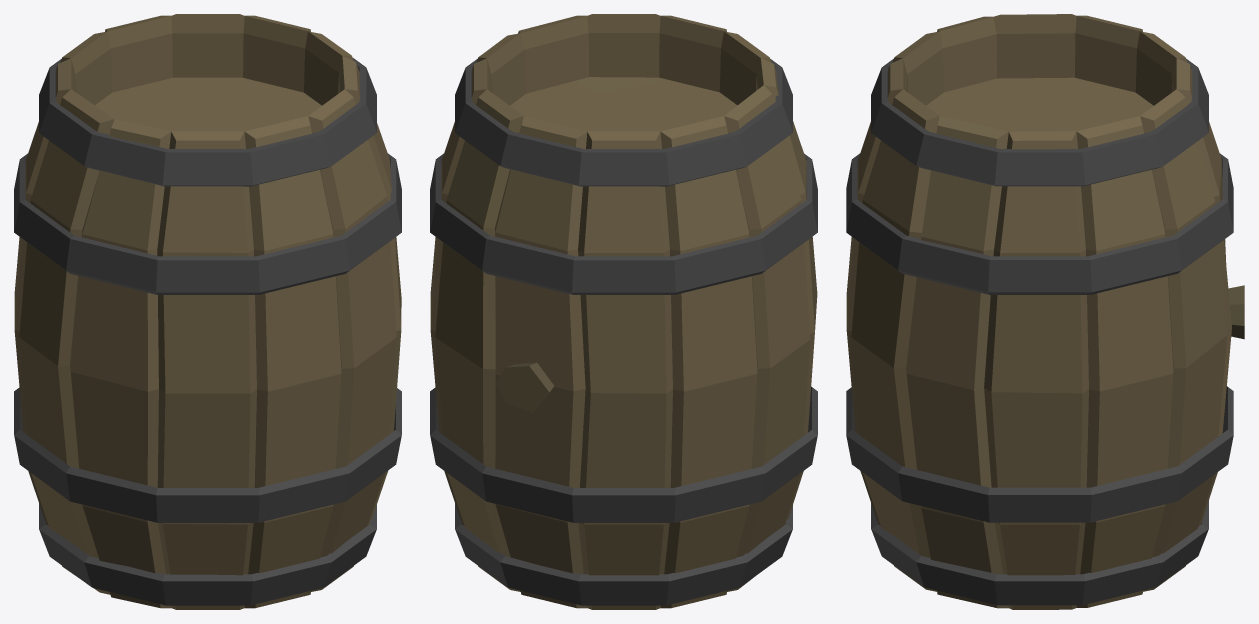
File: SM_Barrel_Central.fbx
3 views of the same model, side by side, from view 1: azimuth 30°, elevation 25°; view 2: azimuth 150°, elevation 25°; view 3: azimuth 270°, elevation 25° (orthographic).
Visible parts, largest first — view 1: Barrel_Central; view 2: Barrel_Central; view 3: Barrel_Central.
Part boxes in pixels (left/top/right/bottom): Barrel_Central: left=14, top=14, right=401, bottom=609; Barrel_Central: left=430, top=14, right=817, bottom=609; Barrel_Central: left=846, top=14, right=1244, bottom=609.
Size of the model in its own units: 0.8697 by 1.18 by 0.8936.
